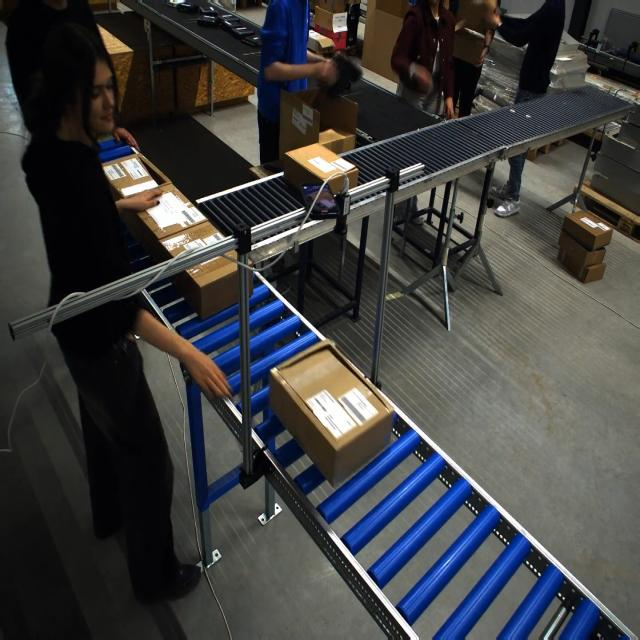box: (274, 340, 388, 480), (115, 180, 213, 263), (173, 249, 251, 321), (99, 153, 170, 205), (283, 142, 348, 197), (316, 129, 353, 156)
product: (230, 26, 255, 37), (196, 15, 218, 27), (177, 2, 199, 13), (241, 34, 261, 46), (219, 15, 240, 26), (199, 5, 218, 15)
